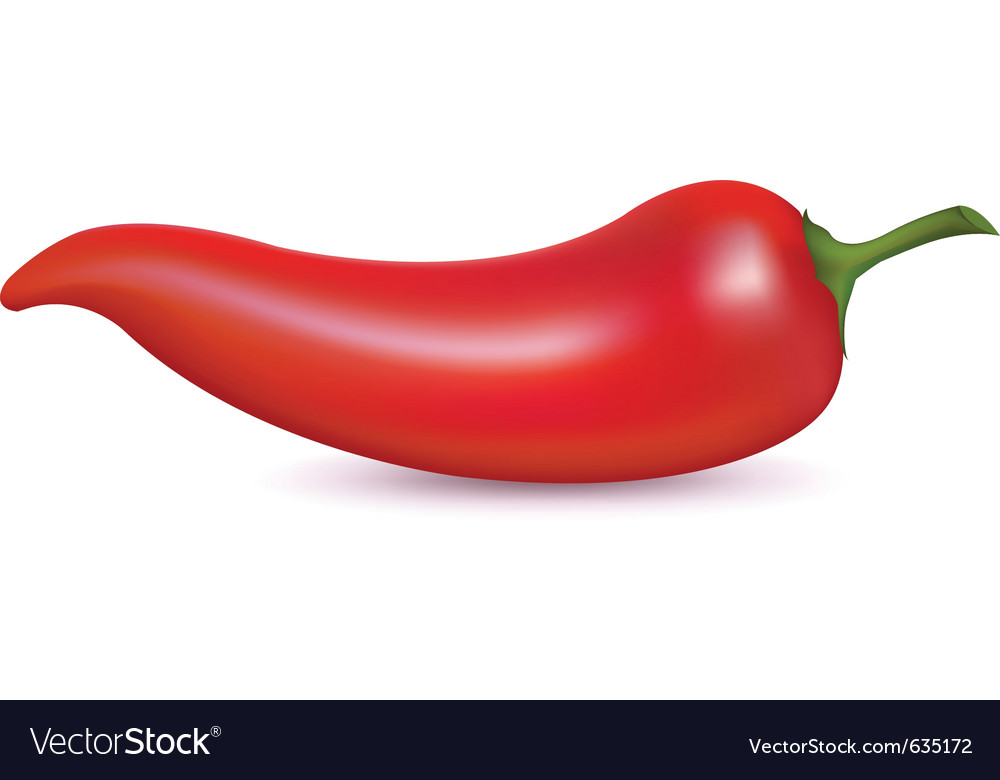Cabai: (40, 145, 1000, 540)
